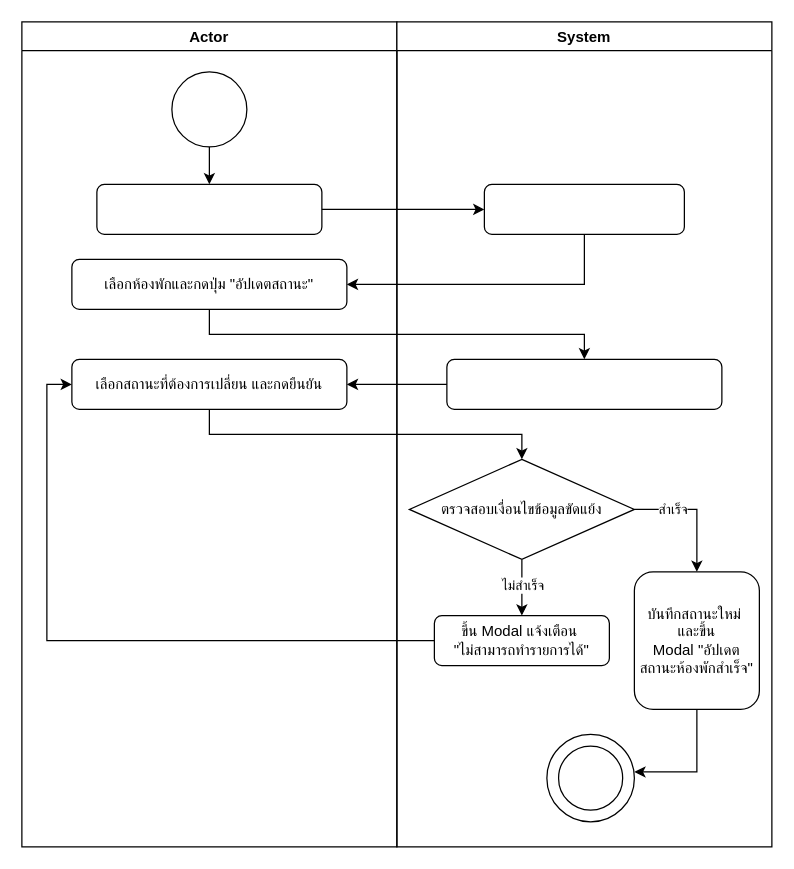
Image size: 794x869. Some labels were removed from this diagram. The shapes that lost their labels are listed below. From the top down, each one's centre as x and y in pixels, then its label:
the point at 209,208: เลือกเมนู "จัดการสถานะห้องพัก"
the point at 583,208: แสดงรายการห้องพักทั้งหมด พร้อมสถานะปัจจุบัน
the point at 584,383: แสดงหน้าต่างสำหรับเลือกสถานะใหม่
